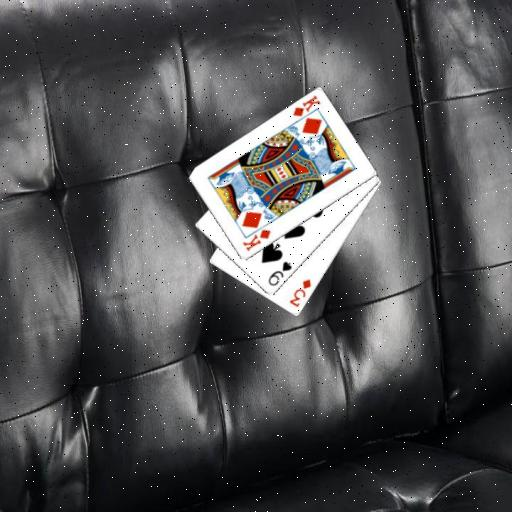3D: (286, 277, 313, 309)
9S: (266, 258, 294, 287)
KD: (240, 226, 272, 253), (290, 92, 322, 118)
